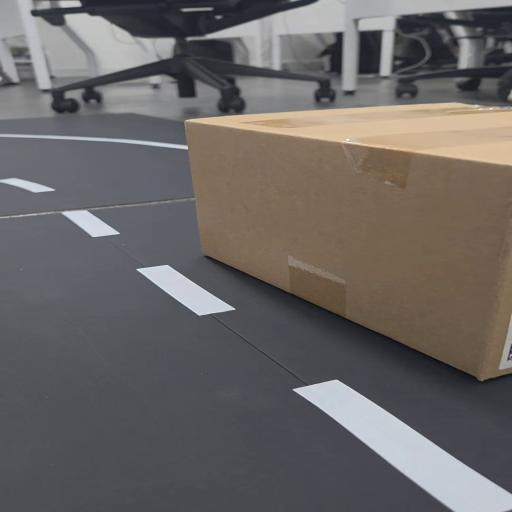Box: (189, 98, 512, 387)
